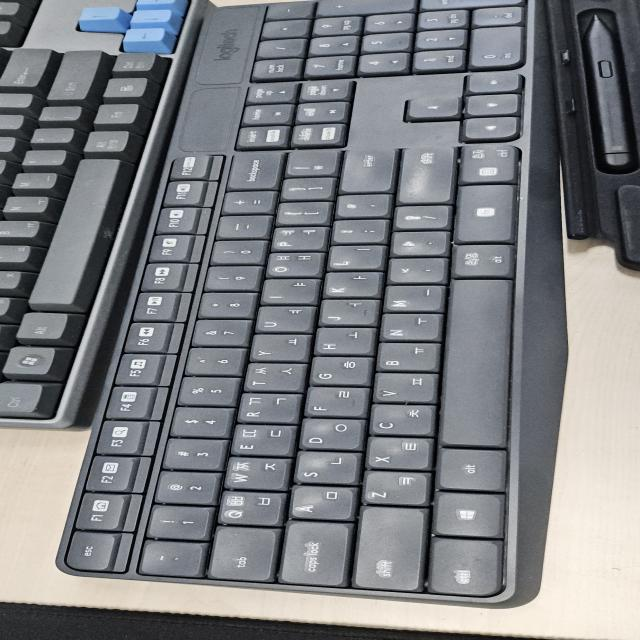Keyboard: (4, 1, 632, 611)
